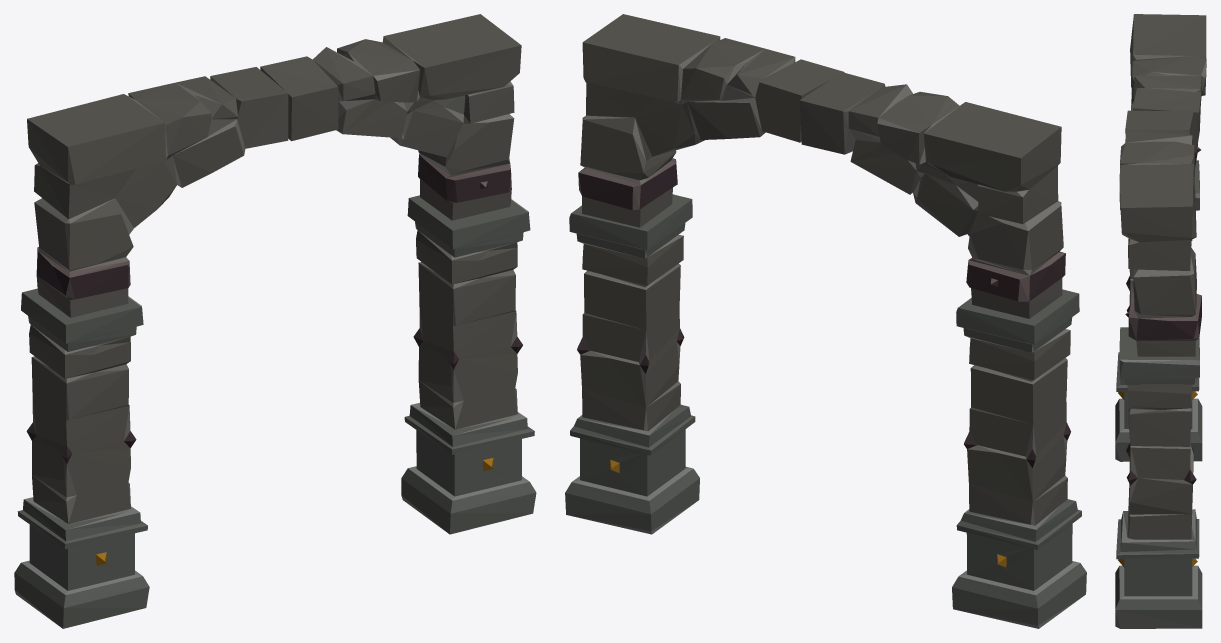
The model's file is MDungeons_Wals_Arched_01.FBX.
3 renders of one model, left to right at view 1: azimuth 30°, elevation 25°; view 2: azimuth 150°, elevation 25°; view 3: azimuth 270°, elevation 25°, orthographic. The views are drawn at different scales.
Visible parts, largest first — view 1: MDungeons_Wals_Arched_01_LOD0; view 2: MDungeons_Wals_Arched_01_LOD0; view 3: MDungeons_Wals_Arched_01_LOD0.
Part boxes in pixels (x1,y1,x2,y2): MDungeons_Wals_Arched_01_LOD0: (14,14,536,628); MDungeons_Wals_Arched_01_LOD0: (565,14,1086,628); MDungeons_Wals_Arched_01_LOD0: (1115,14,1206,628).
Size of what is drawn, in the model's own units: 6.26 by 6.03 by 1.19.
